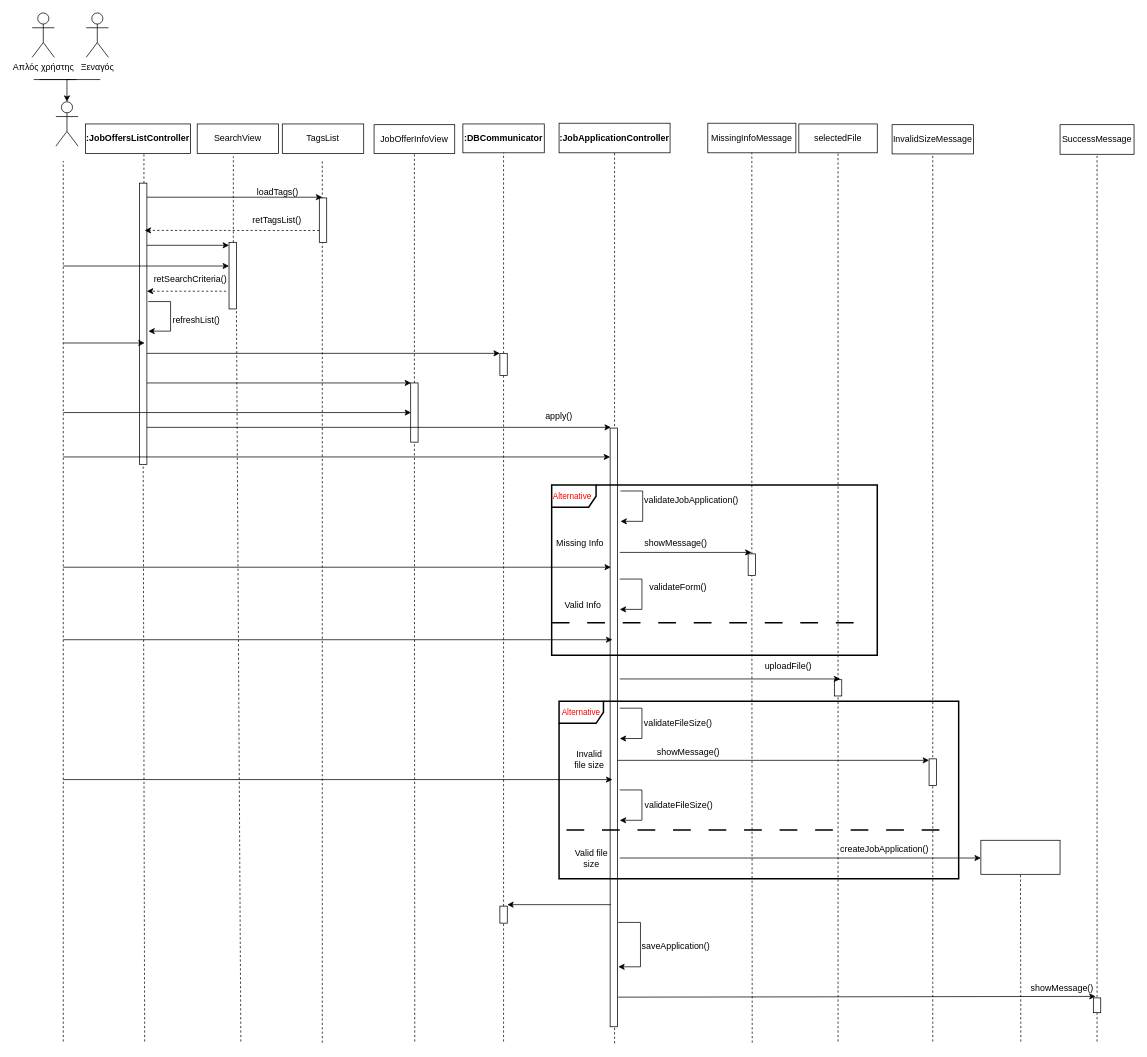
Image size: 1147x1057. Some labels were removed from this diagram. The shapes that lost their labels are listed below. From the top down, each one's centre as x and y in pixels, then its label:
the point at 66,123: Χειριστής
the point at 1020,857: :JobApplication
